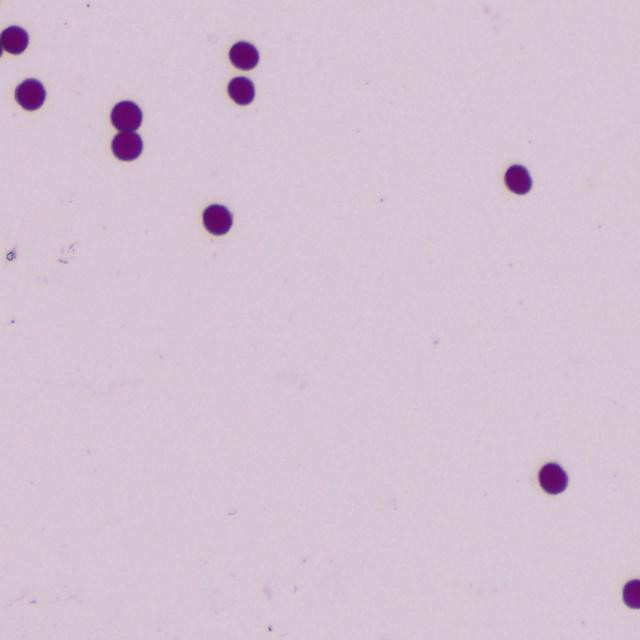viable: (111, 100, 142, 131), (15, 79, 45, 110), (203, 204, 232, 235), (539, 463, 567, 494), (229, 41, 258, 70), (112, 132, 142, 160), (0, 25, 28, 54), (505, 165, 531, 194), (228, 77, 254, 104), (623, 580, 639, 608)
